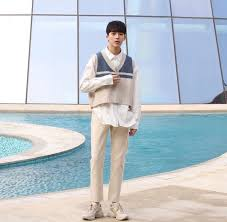people: (81, 22, 141, 222)
